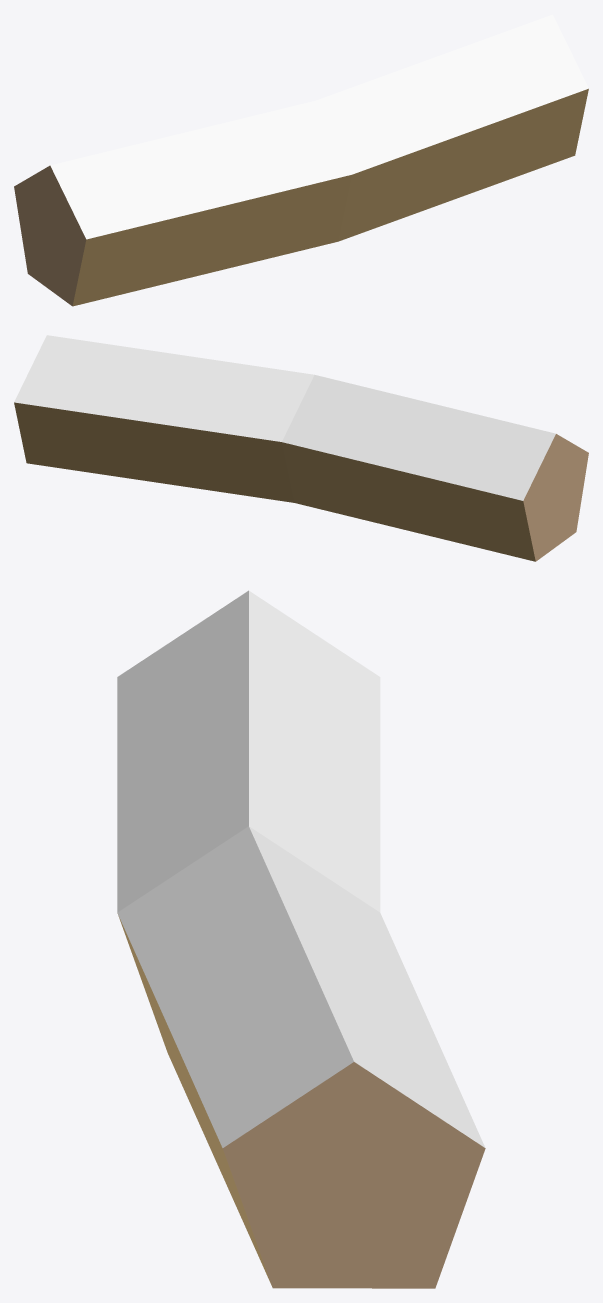
Rendered from Simple_Firewood_Snow_01_LOD.fbx.
The picture shows the model from 3 angles, top to bottom: view 1: azimuth 30°, elevation 25°; view 2: azimuth 150°, elevation 25°; view 3: azimuth 270°, elevation 25°; orthographic projection. The views are drawn at different scales.
Parts seen in each view (by area): view 1: Simple_Firewood_Snow_01_LOD0; view 2: Simple_Firewood_Snow_01_LOD0; view 3: Simple_Firewood_Snow_01_LOD0.
Boxes of the visible parts, x1,y1,x2,y2 form: Simple_Firewood_Snow_01_LOD0: (14, 14, 588, 306); Simple_Firewood_Snow_01_LOD0: (14, 335, 588, 561); Simple_Firewood_Snow_01_LOD0: (117, 590, 485, 1288).
Size of what is drawn, in the model's own units: 56 by 12.56 by 18.49.
